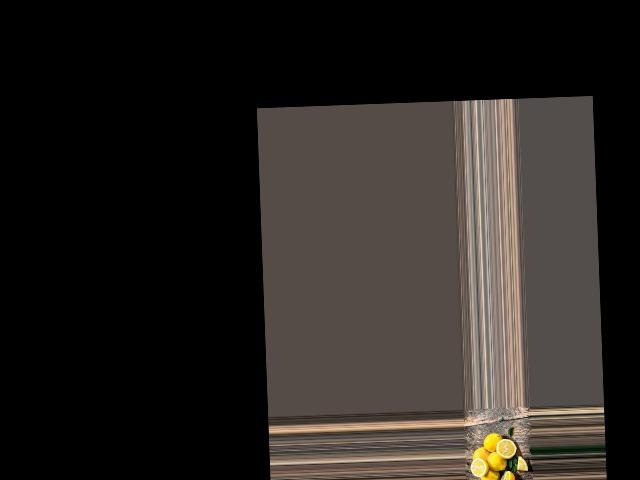lemon: (481, 467, 502, 480)
